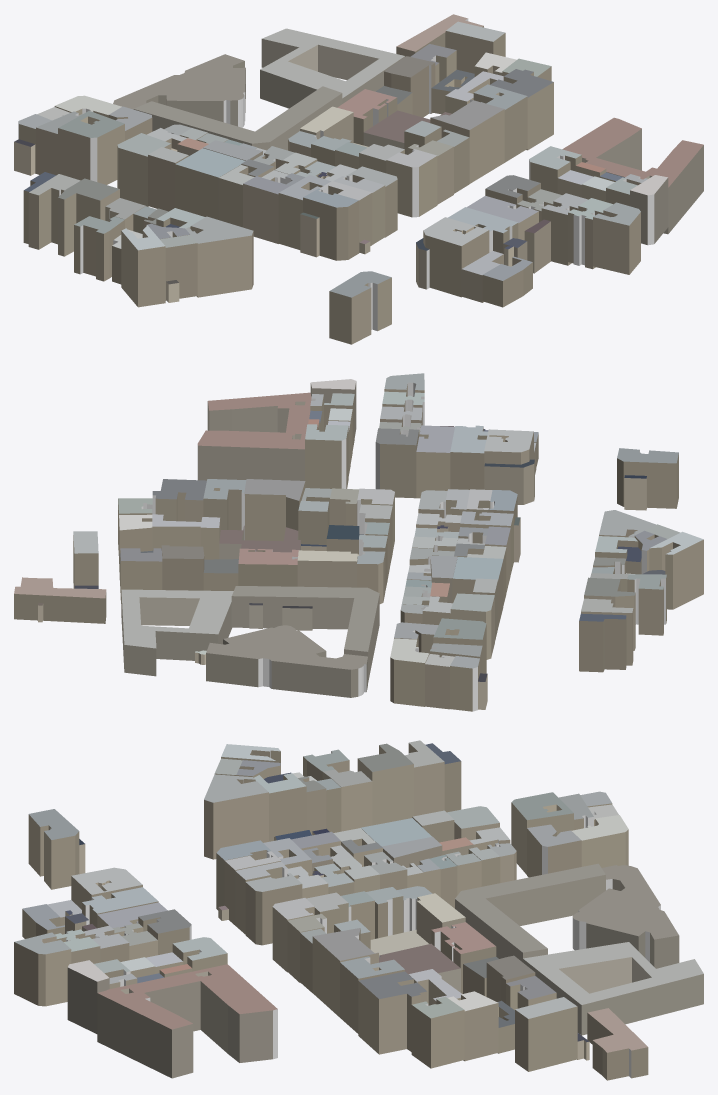
The picture shows the model from 3 angles, top to bottom: view 1: azimuth 30°, elevation 25°; view 2: azimuth 150°, elevation 25°; view 3: azimuth 270°, elevation 25°; orthographic projection. The views are drawn at different scales.
Parts seen in each view (by area): view 1: tuile; view 2: tuile; view 3: tuile.
Part boxes in pixels (x1,y1,x2,y2): tuile: (14, 14, 703, 344); tuile: (14, 373, 703, 711); tuile: (14, 740, 703, 1080).
Bounding box in the file's own units: 280 × 32.47 × 284.
